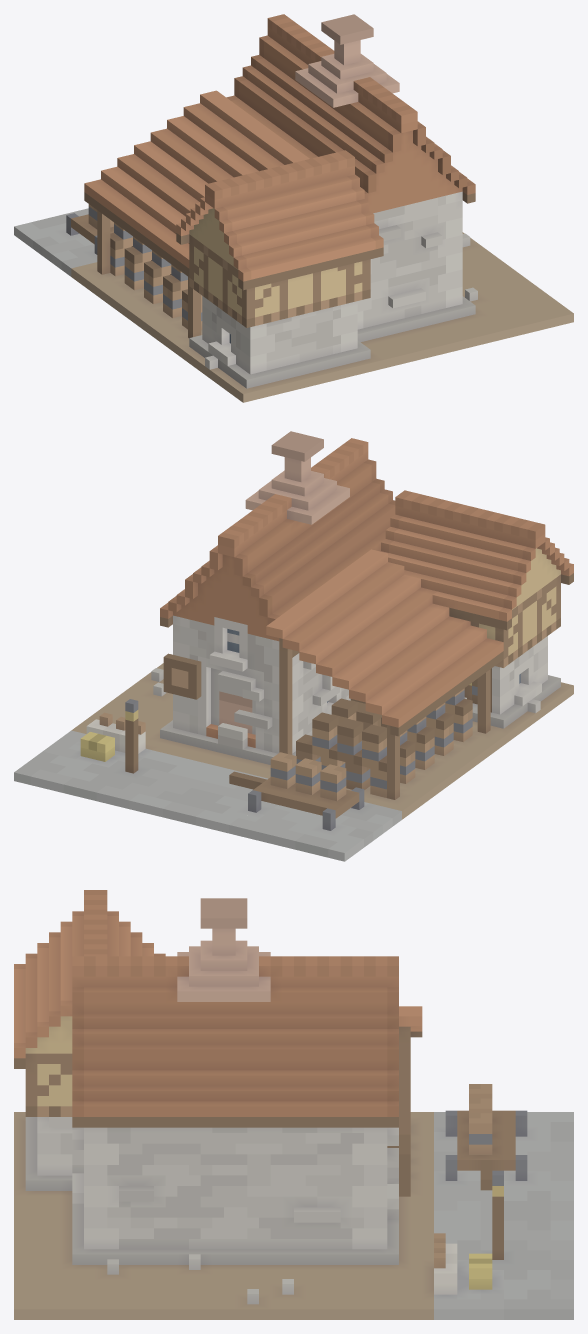
Rendered from brewery.glb.
3 renders of one model, top to bottom at view 1: azimuth 30°, elevation 25°; view 2: azimuth 150°, elevation 25°; view 3: azimuth 270°, elevation 25°, orthographic. The views are drawn at different scales.
Parts seen in each view (by area): view 1: brewery; view 2: brewery; view 3: brewery.
Boxes of the visible parts, x1,y1,x2,y2 form: brewery: [14, 14, 573, 402]; brewery: [14, 431, 573, 861]; brewery: [14, 890, 573, 1319].
Bounding box in the file's own units: 5 × 3.88 × 6.
